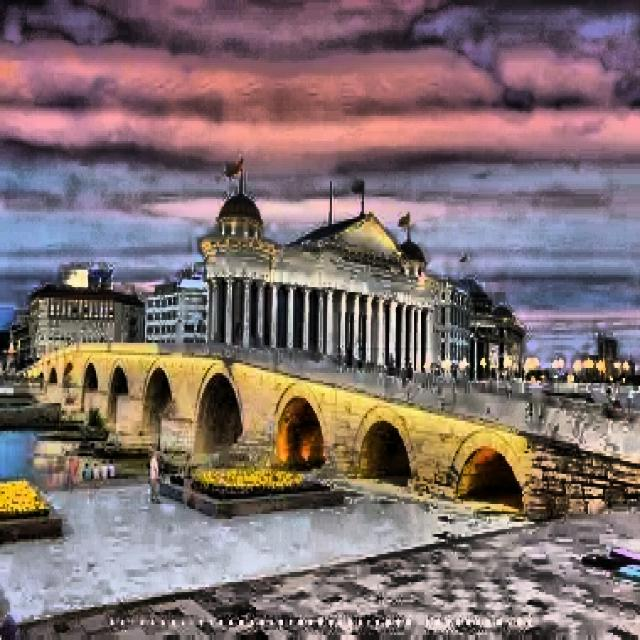stone bridge: (0, 329, 640, 524)
